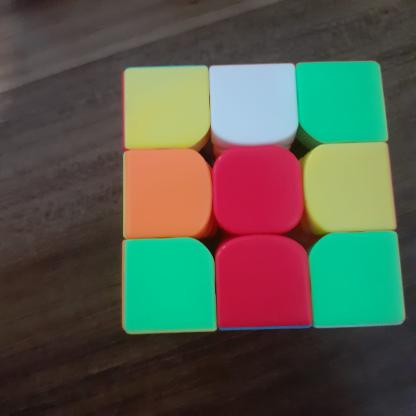cube: (116, 52, 410, 340)
